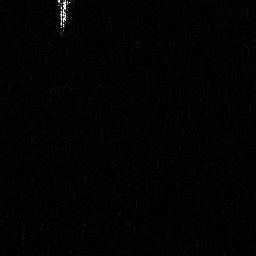ship: (55, 1, 72, 34)
